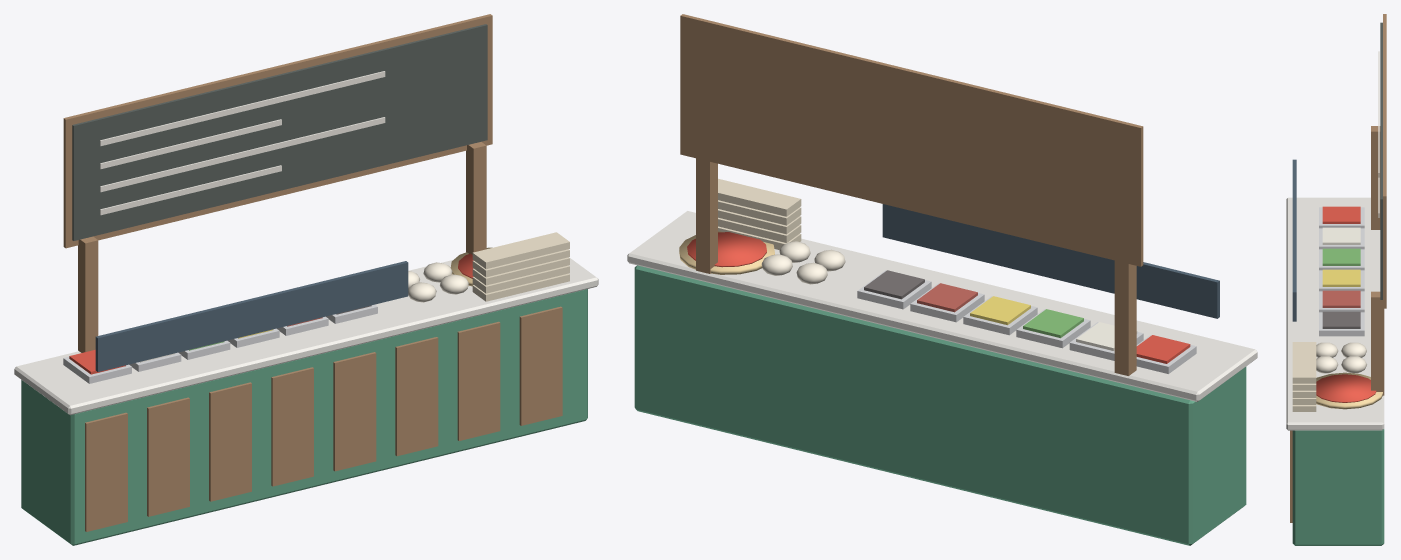
Rendered from pizza-counter.glb.
3 renders of one model, left to right at view 1: azimuth 30°, elevation 25°; view 2: azimuth 150°, elevation 25°; view 3: azimuth 270°, elevation 25°, orthographic. The views are drawn at different scales.
Parts seen in each view (by area): view 1: pizza-counter; view 2: pizza-counter; view 3: pizza-counter.
Part boxes in pixels (x1,y1,x2,y2): pizza-counter: (14, 14, 598, 545); pizza-counter: (627, 14, 1257, 545); pizza-counter: (1286, 14, 1386, 545).
Size of the model in its own units: 4.1 by 2.8 by 0.77.
